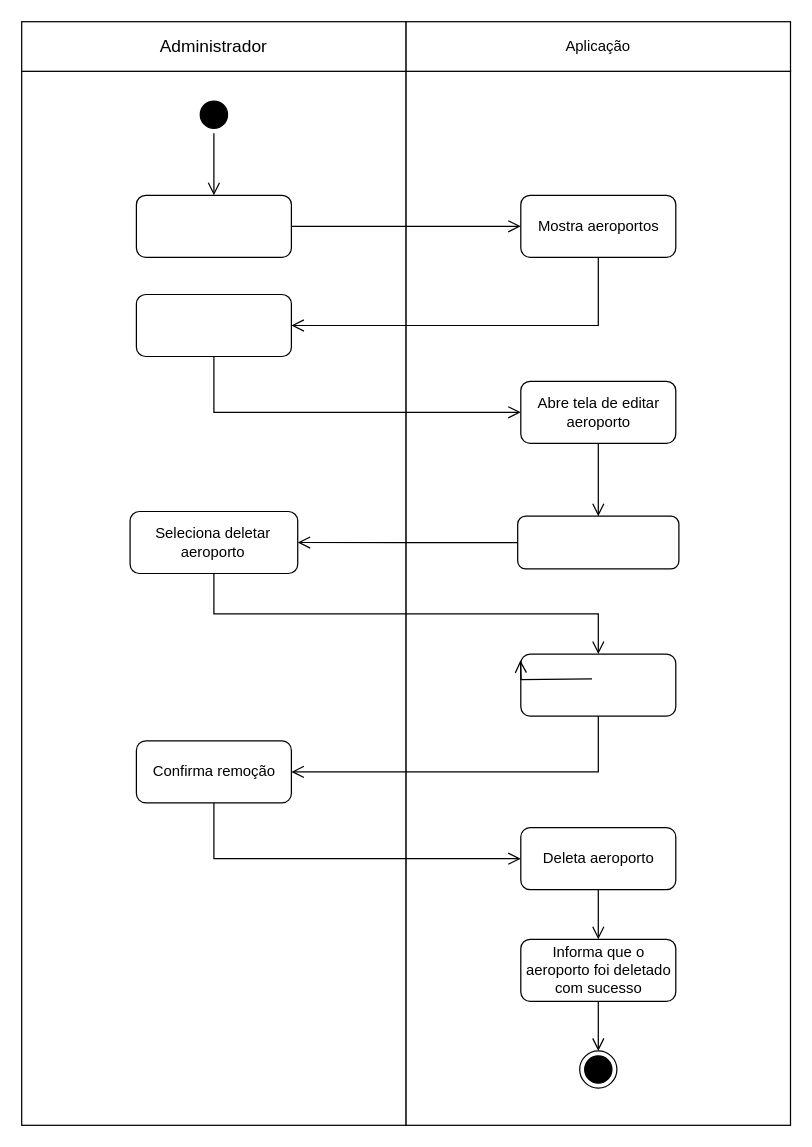
This 812x1147 diagram has some shape labels left out. The centre of each missing label's shape, as x and y in pixels:
"Entra na tela de ver aeroportos" belongs at (213,225).
"Mostra dados atuais" belongs at (597,542).
"Pergunta se tem certeza" belongs at (598,684).
"Seleciona editar aeroporto" belongs at (213,324).
